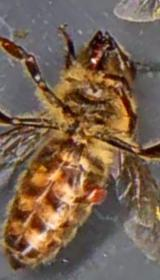varroa_mite: (85, 179, 111, 206)
